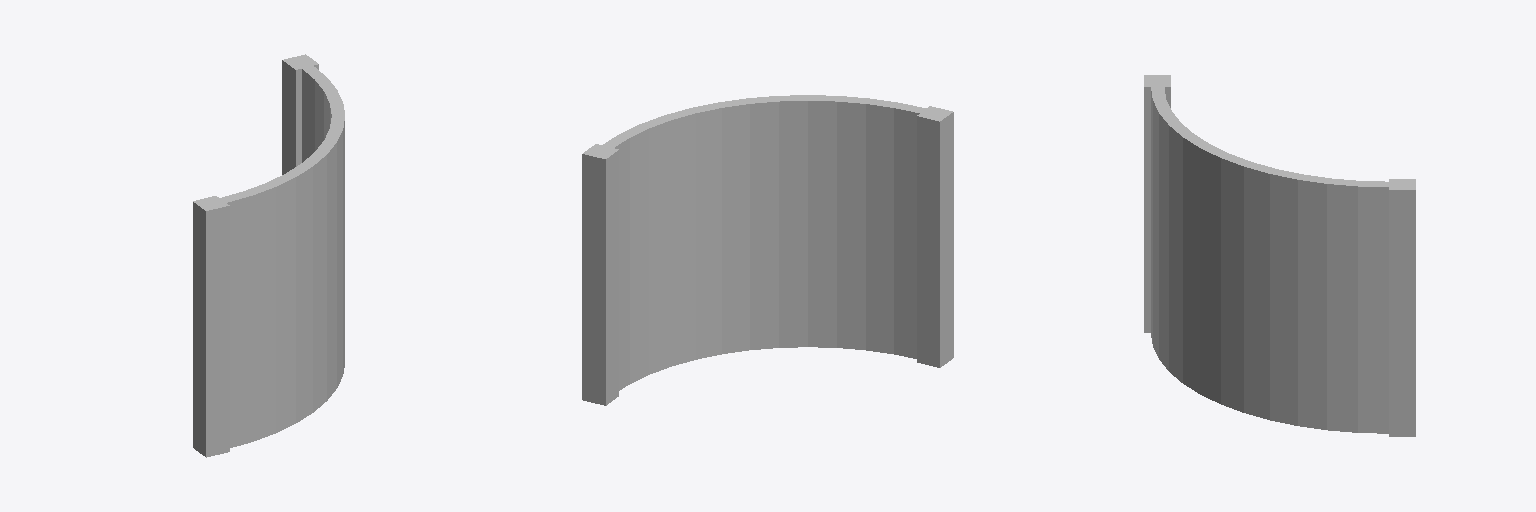
File: wallCurved.obj
3 renders of one model, left to right at view 1: azimuth 30°, elevation 25°; view 2: azimuth 150°, elevation 25°; view 3: azimuth 270°, elevation 25°, orthographic.
Parts seen in each view (by area): view 1: wallCurved; view 2: wallCurved; view 3: wallCurved.
Part boxes in pixels (left/top/right/bottom): wallCurved: left=193, top=54, right=344, bottom=457; wallCurved: left=582, top=95, right=953, bottom=405; wallCurved: left=1144, top=75, right=1415, bottom=436.
Bounding box in the file's own units: 1 × 1 × 1.